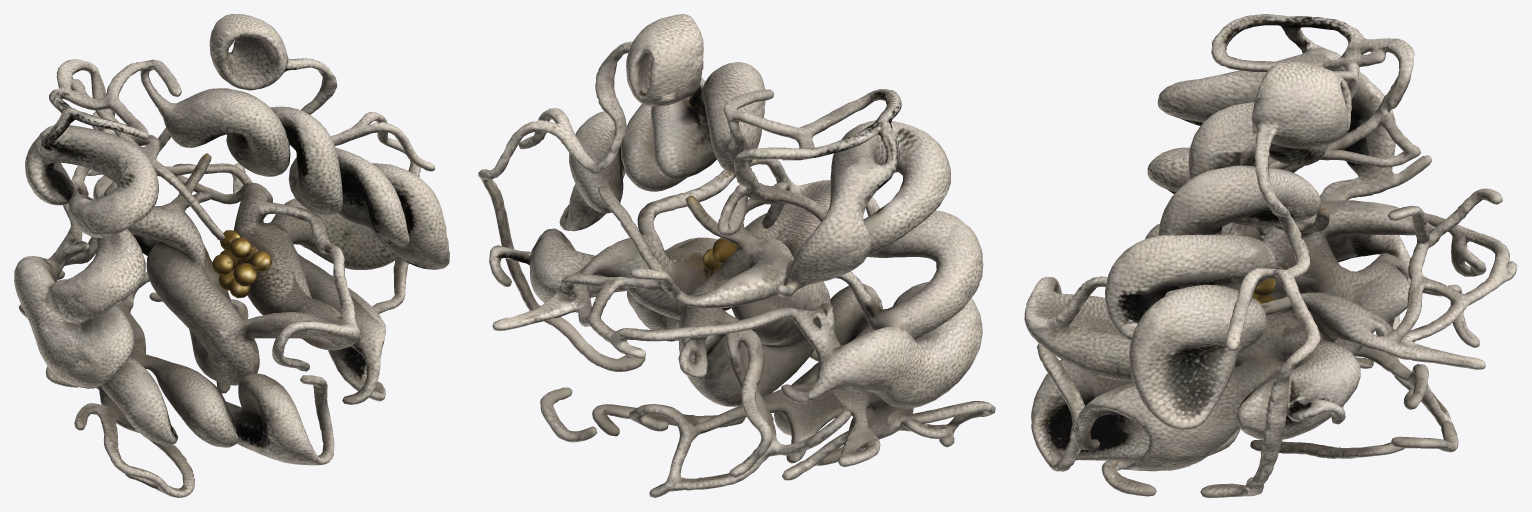
Rendered from hero-protein-ligand-specimen-v1.glb.
3 renders of one model, left to right at view 1: azimuth 30°, elevation 25°; view 2: azimuth 150°, elevation 25°; view 3: azimuth 270°, elevation 25°, orthographic. The views are drawn at different scales.
Visible parts, largest first — view 1: node_0; view 2: node_0; view 3: node_0.
Boxes of the visible parts, <box> form: node_0: <box>14,14,449,497</box>; node_0: <box>478,14,995,497</box>; node_0: <box>1024,14,1517,497</box>.
Size of the model in its own units: 0.9135 by 0.8528 by 0.8643.
1 material, 1 textured.
